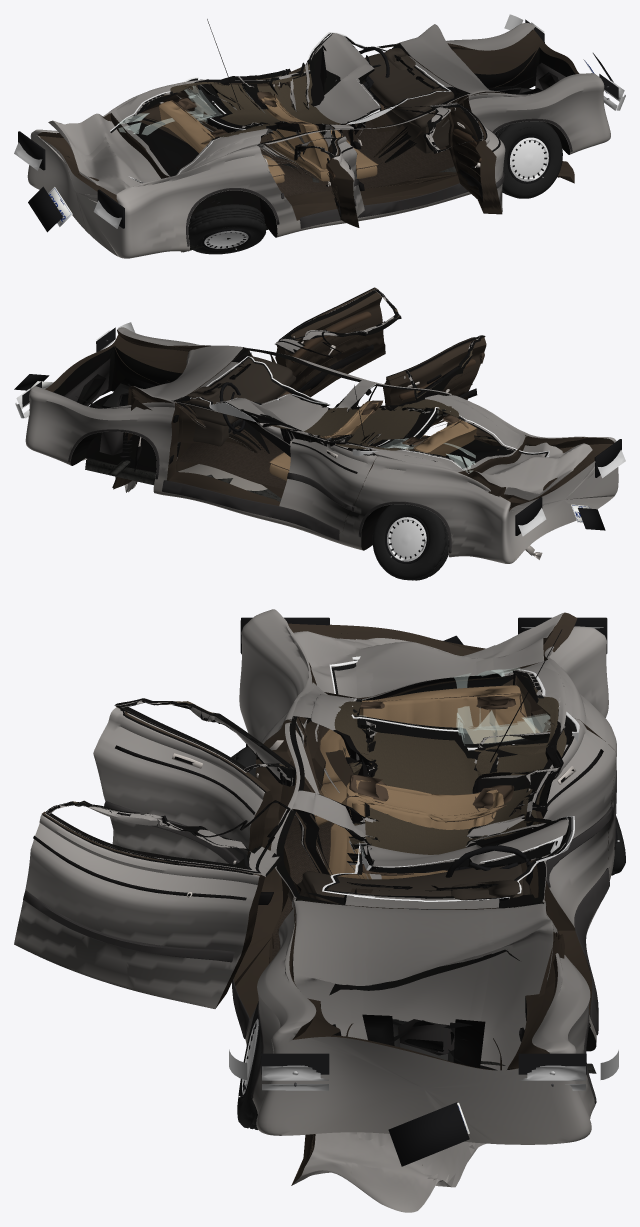
File: sedan87_roll_d3_lod1.glb
The picture shows the model from 3 angles, top to bottom: view 1: azimuth 30°, elevation 25°; view 2: azimuth 150°, elevation 25°; view 3: azimuth 270°, elevation 25°; orthographic projection. The views are drawn at different scales.
Parts seen in each view (by area): view 1: Body, Interior, Trunk, Door_FR, Wheel_FR_mesh, Ends, Wheel_RR_mesh, Hood, Trim, Glass, Door_RR, Trim_FR (+3 smaller); view 2: Body, Interior, Door_FR, Door_RL, Wheel_RL_mesh, Trunk, Trim, Door_RR, Hood, Ends, Glass, Engine (+4 smaller); view 3: Body, Hood, Door_FR, Interior, Door_RR, Trunk, Door_RL, Ends, Glass, Trim_FR, Engine, Trim (+4 smaller).
Part boxes in pixels (left/top/right/bottom): Body: left=27, top=23, right=610, bottom=258; Interior: left=159, top=47, right=454, bottom=183; Trunk: left=48, top=113, right=160, bottom=194; Door_FR: left=425, top=102, right=505, bottom=214; Wheel_FR_mesh: left=494, top=121, right=562, bottom=198; Ends: left=14, top=14, right=625, bottom=232; Wheel_RR_mesh: left=188, top=204, right=265, bottom=254; Hood: left=397, top=24, right=574, bottom=183; Trim: left=186, top=19, right=572, bottom=246; Glass: left=110, top=32, right=451, bottom=182; Door_RR: left=294, top=136, right=364, bottom=227; Trim_FR: left=384, top=103, right=504, bottom=199; Body: left=25, top=327, right=618, bottom=563; Interior: left=187, top=356, right=477, bottom=480; Door_FR: left=275, top=287, right=401, bottom=397; Door_RL: left=279, top=428, right=378, bottom=532; Wheel_RL_mesh: left=372, top=504, right=448, bottom=580; Trunk: left=467, top=442, right=592, bottom=501; Trim: left=68, top=363, right=451, bottom=553; Door_RR: left=383, top=335, right=486, bottom=426; Hood: left=112, top=345, right=245, bottom=492; Ends: left=14, top=322, right=625, bottom=536; Glass: left=190, top=356, right=549, bottom=473; Engine: left=64, top=358, right=171, bottom=455; Body: left=233, top=609, right=616, bottom=1144; Hood: left=291, top=899, right=564, bottom=1212; Door_FR: left=14, top=800, right=282, bottom=1008; Interior: left=287, top=685, right=540, bottom=909; Door_RR: left=93, top=698, right=295, bottom=863; Trunk: left=293, top=612, right=577, bottom=697; Door_RL: left=514, top=719, right=616, bottom=930; Ends: left=229, top=617, right=618, bottom=1166; Glass: left=322, top=656, right=579, bottom=901; Trim_FR: left=23, top=800, right=290, bottom=962; Engine: left=332, top=1014, right=485, bottom=1067; Trim: left=232, top=629, right=616, bottom=1103.
Size of the model in its own units: 5.15 by 1.7 by 2.74.
Materials: 28 (5 with a texture image).
